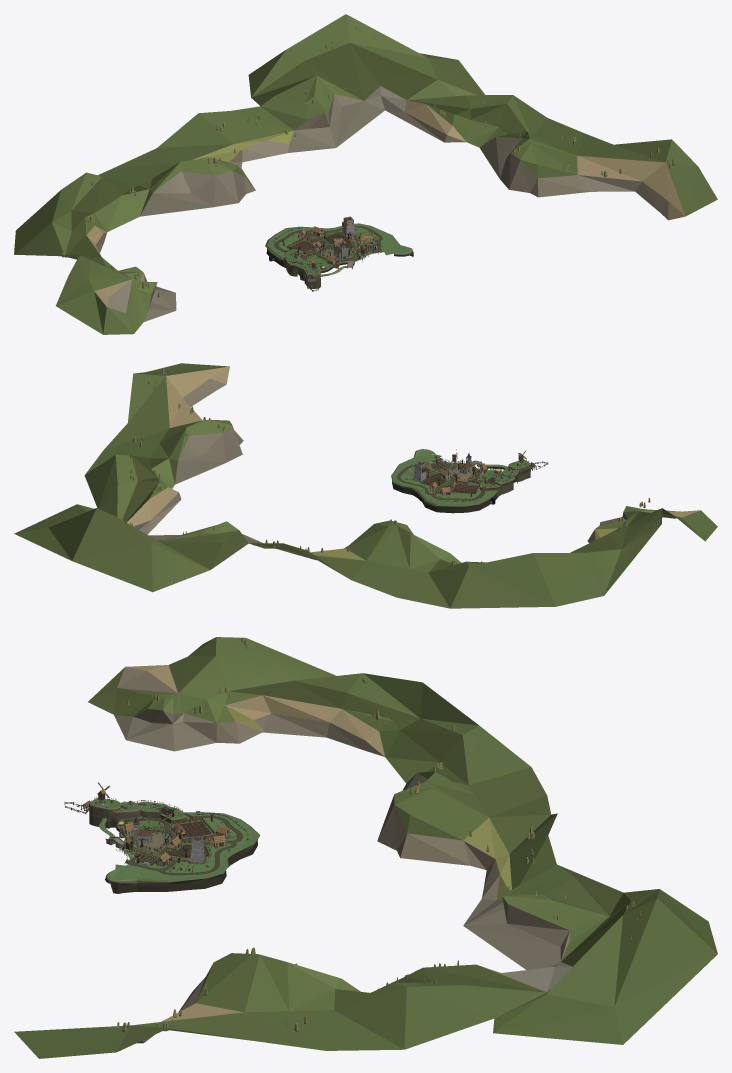
File: narrowFieldsAlt.glb
The picture shows the model from 3 angles, top to bottom: view 1: azimuth 30°, elevation 25°; view 2: azimuth 150°, elevation 25°; view 3: azimuth 270°, elevation 25°; orthographic projection. The views are drawn at different scales.
Visible parts, largest first — view 1: Plane.419, floor.001, road.003; view 2: Plane.419, floor.001, road.003, Plane.6242, Plane.5800; view 3: Plane.419, floor.001, road.003, Plane.6242.
Boxes of the visible parts, box(x1,y1,x2,y2) form: Plane.419: box(14, 14, 717, 334); floor.001: box(265, 223, 413, 267); road.003: box(274, 226, 382, 261); Plane.419: box(14, 363, 717, 608); floor.001: box(391, 449, 500, 513); road.003: box(396, 460, 501, 500); Plane.6242: box(502, 460, 530, 483); Plane.5800: box(479, 475, 514, 496); Plane.419: box(14, 637, 717, 1058); floor.001: box(105, 812, 260, 893); road.003: box(121, 815, 242, 875); Plane.6242: box(89, 798, 142, 828).
Size of what is drawn, in the model's own units: 640 by 62.48 by 472.
